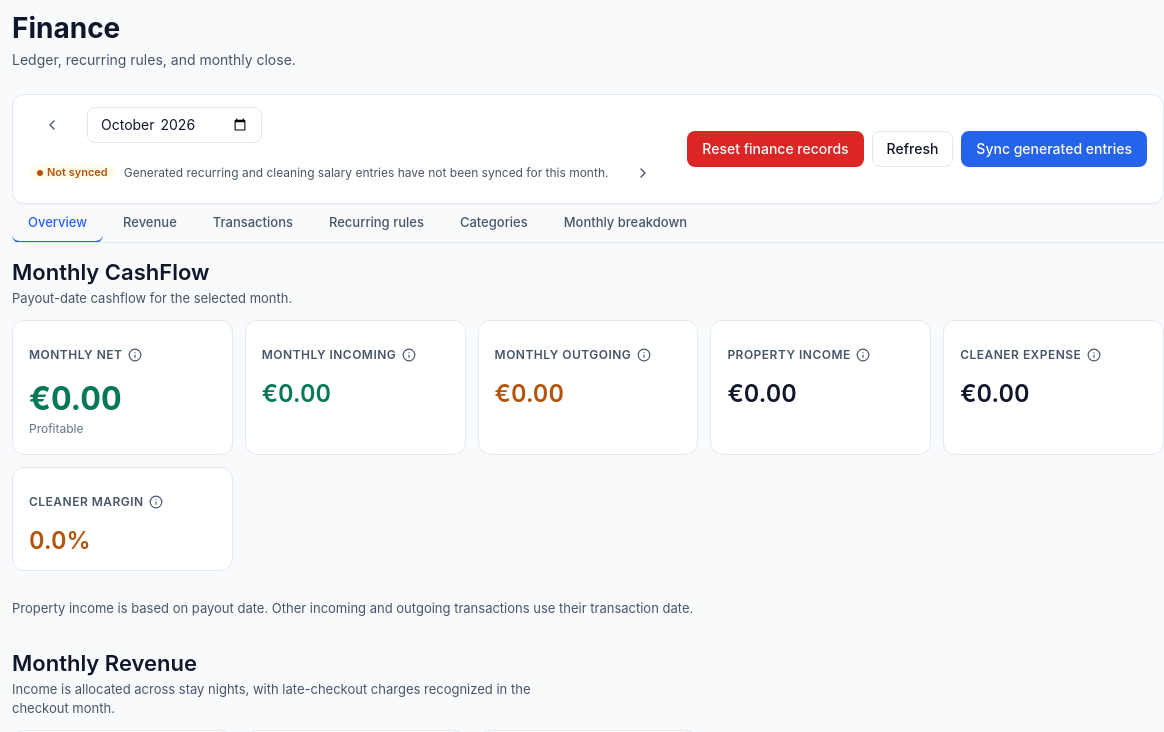
FinanceView › renders payout-backed gross revenue in a separate Revenue tab
Click the tab "Revenue": coordinates (150, 223) [107,204,193,243]
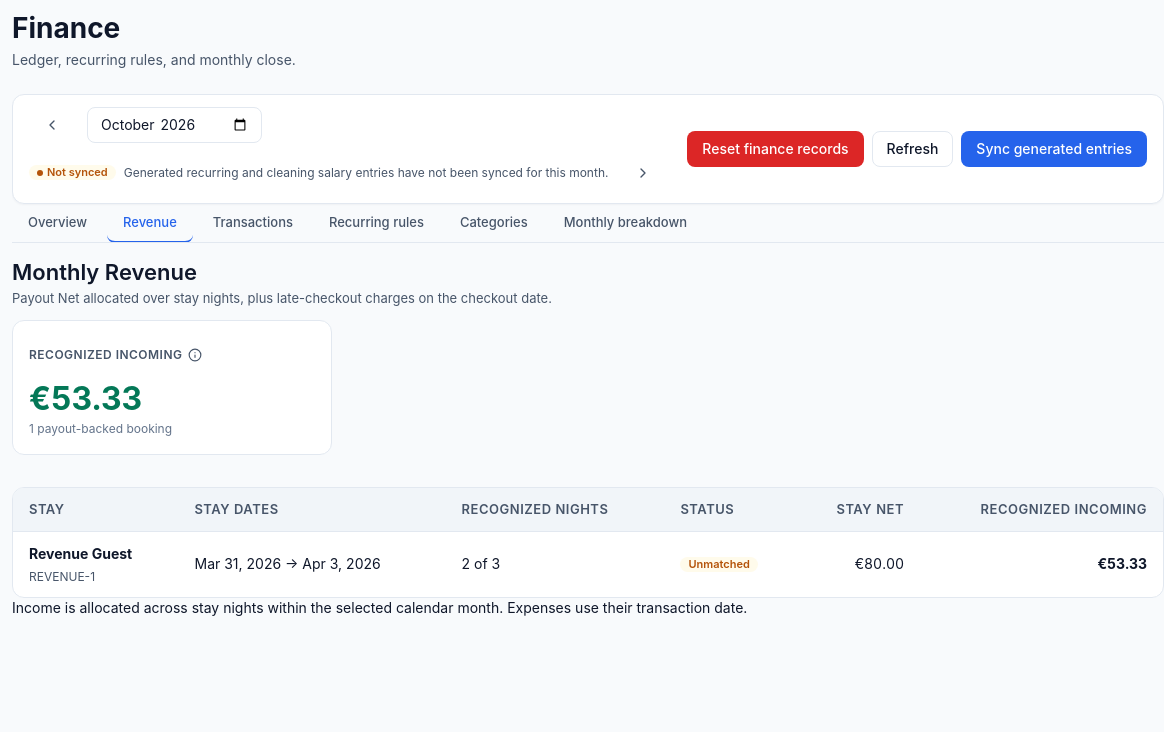
Now the text "Revenue Guest" is shown, box [29,544,132,562]
Now the text "REVENUE-1" is shown, box [29,569,95,584]
Now the text "2 of 3" is shown, box [462,555,500,572]
